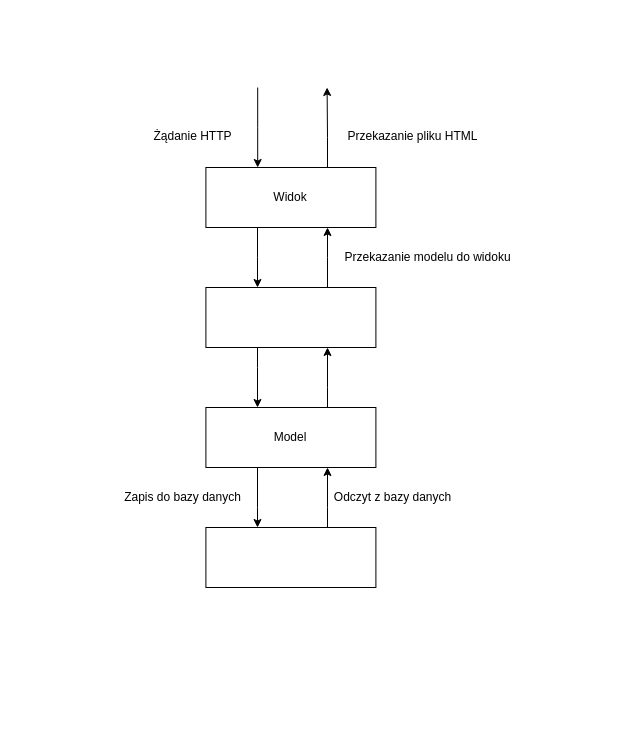
This 624x754 diagram has some shape labels left out. The shapes that lost their labels are listed below. From the top down, each one's box as (x1, y1, x2, y2) in pixels, then its label:
(205, 286, 376, 348): Kontroler
(205, 526, 376, 588): Baza danych
